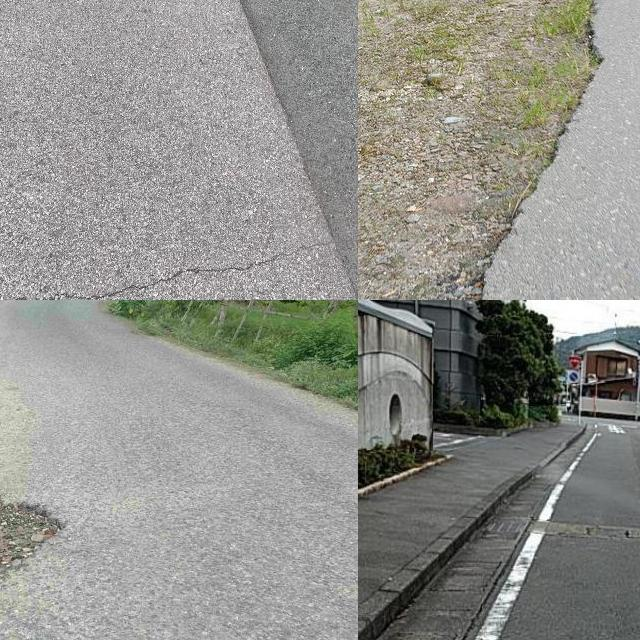Melintang: (0, 232, 339, 300)
Pinggir: (406, 0, 640, 300), (0, 489, 80, 597)
Sambungan: (242, 0, 358, 293)
